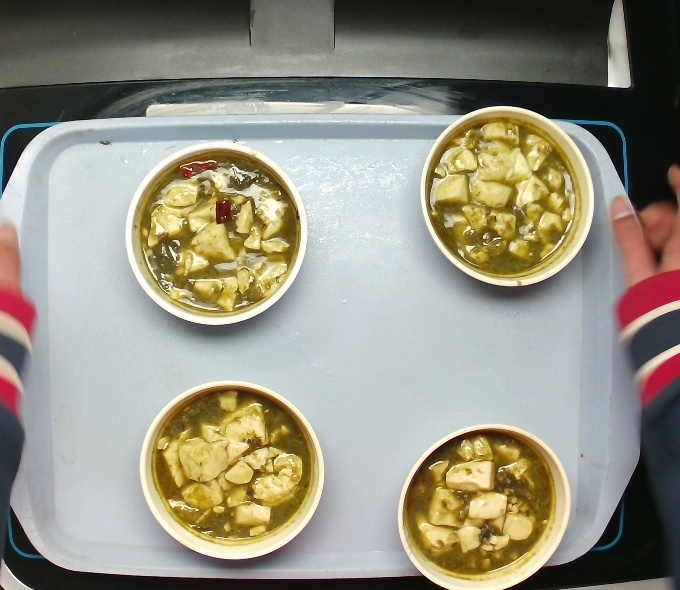wcq-SuanCaiDouFu: (139, 147, 302, 316), (149, 382, 316, 546), (424, 115, 584, 279), (402, 426, 558, 579)
